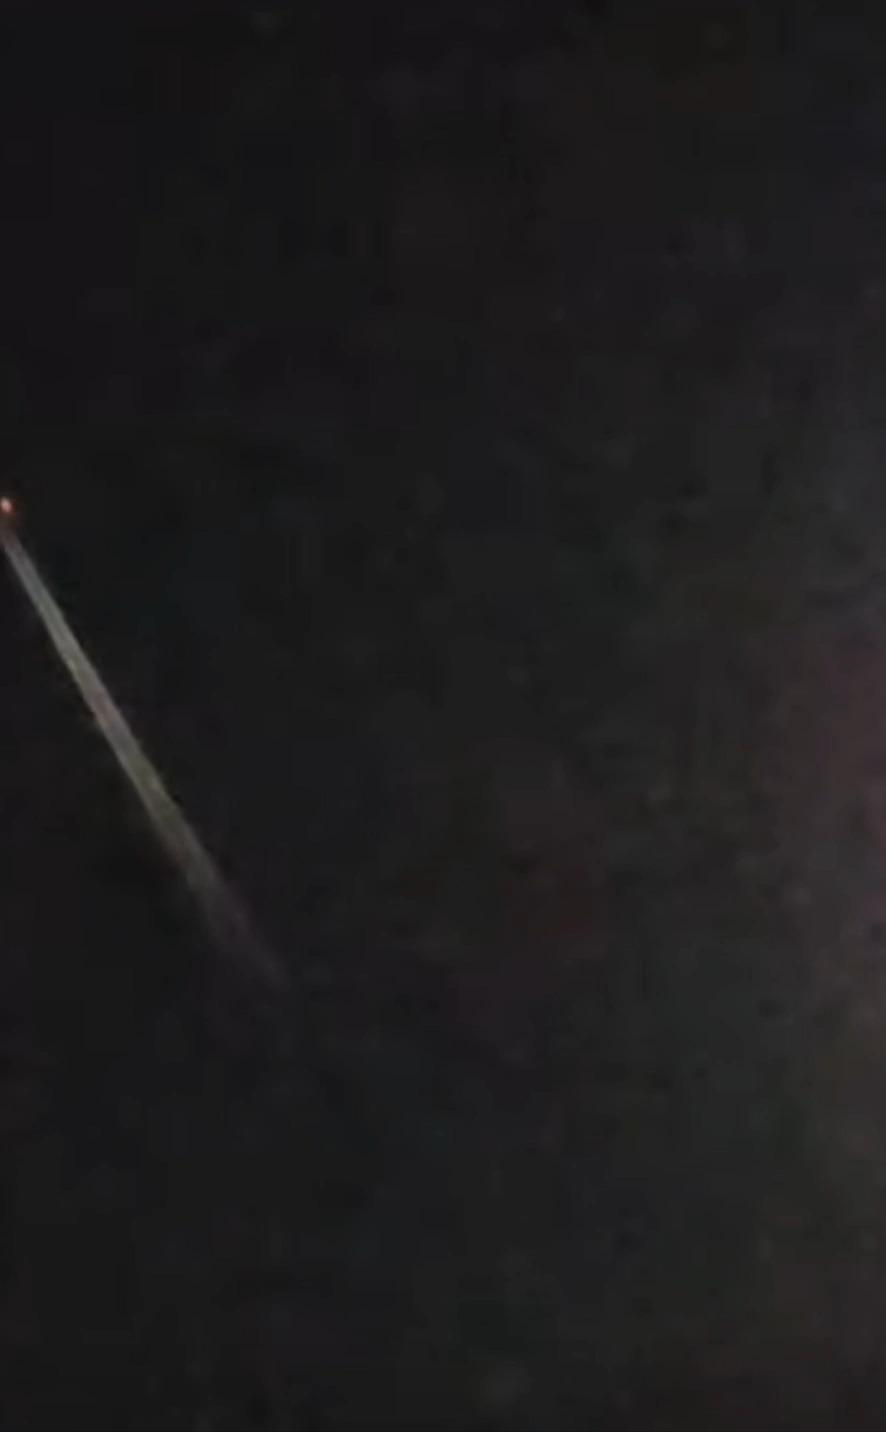Plane: (0, 479, 150, 727)
